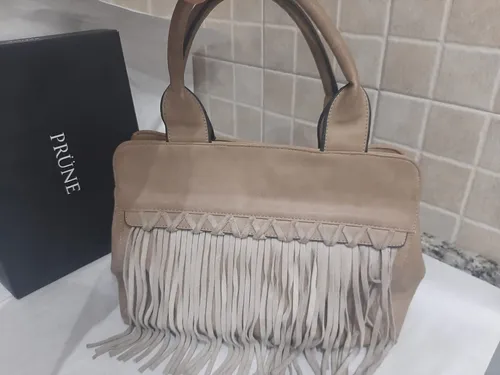cartera: (93, 1, 429, 361)
gamuza: (116, 131, 425, 355)
